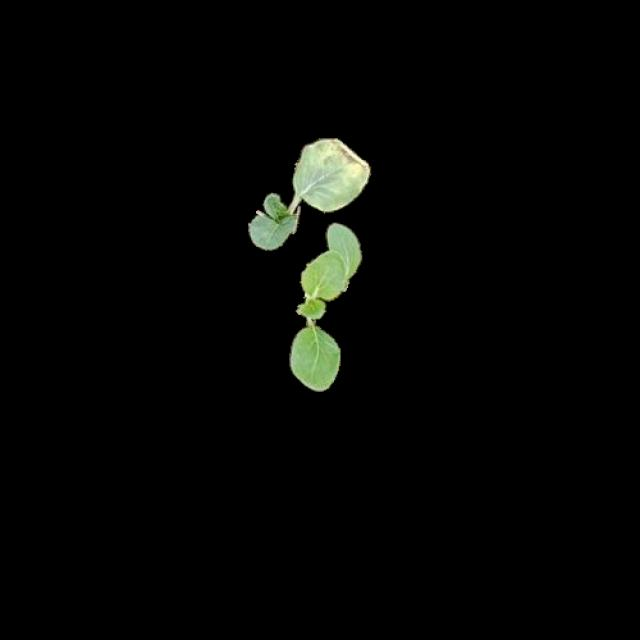healthy: (291, 220, 358, 387)
not-mature: (248, 138, 372, 251), (291, 223, 358, 389)
unhealthy: (290, 141, 370, 212)
